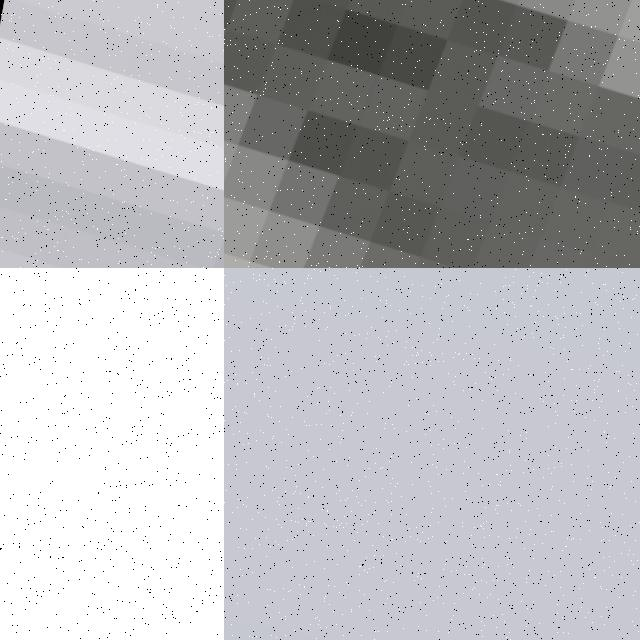drone: (224, 0, 640, 268), (0, 0, 224, 268)
